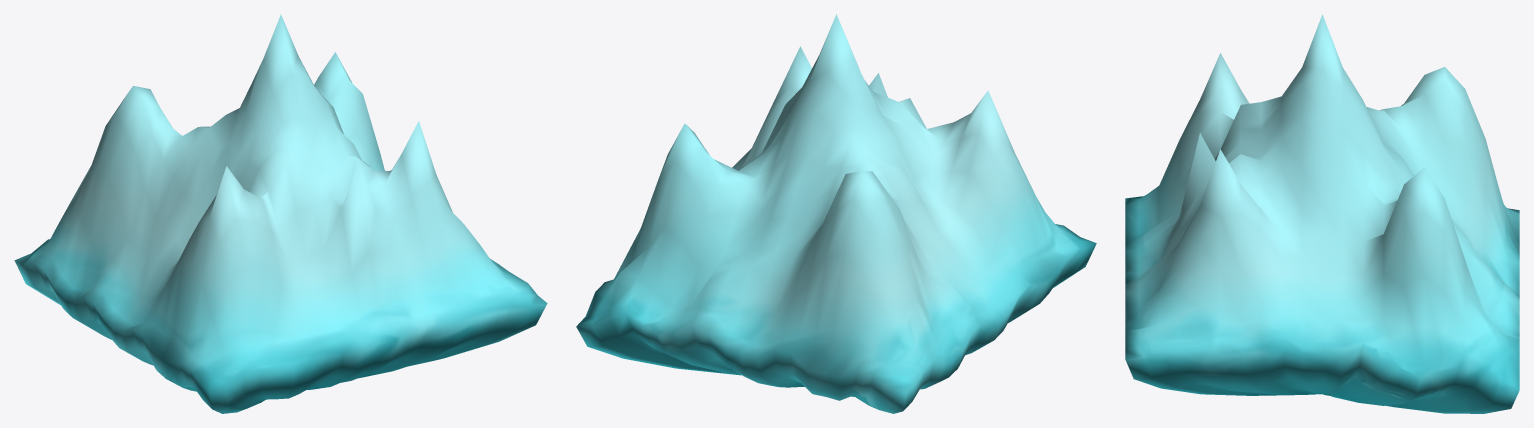
The model's file is JoãoPedroBaião_882555 (2).fbx_Iceberg.fbx.
3 renders of one model, left to right at view 1: azimuth 30°, elevation 25°; view 2: azimuth 150°, elevation 25°; view 3: azimuth 270°, elevation 25°, orthographic. The views are drawn at different scales.
Visible parts, largest first — view 1: Iceberg; view 2: Iceberg; view 3: Iceberg.
Boxes of the visible parts, <box> form: Iceberg: <box>14,14,547,413</box>; Iceberg: <box>576,14,1096,413</box>; Iceberg: <box>1125,14,1519,413</box>.
Size of the model in its own units: 598 by 629 by 598.
